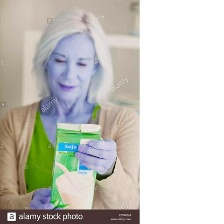carton: (46, 118, 103, 211)
